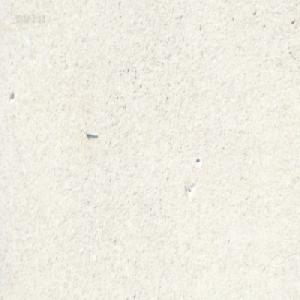Nail: (85, 129, 98, 138)
